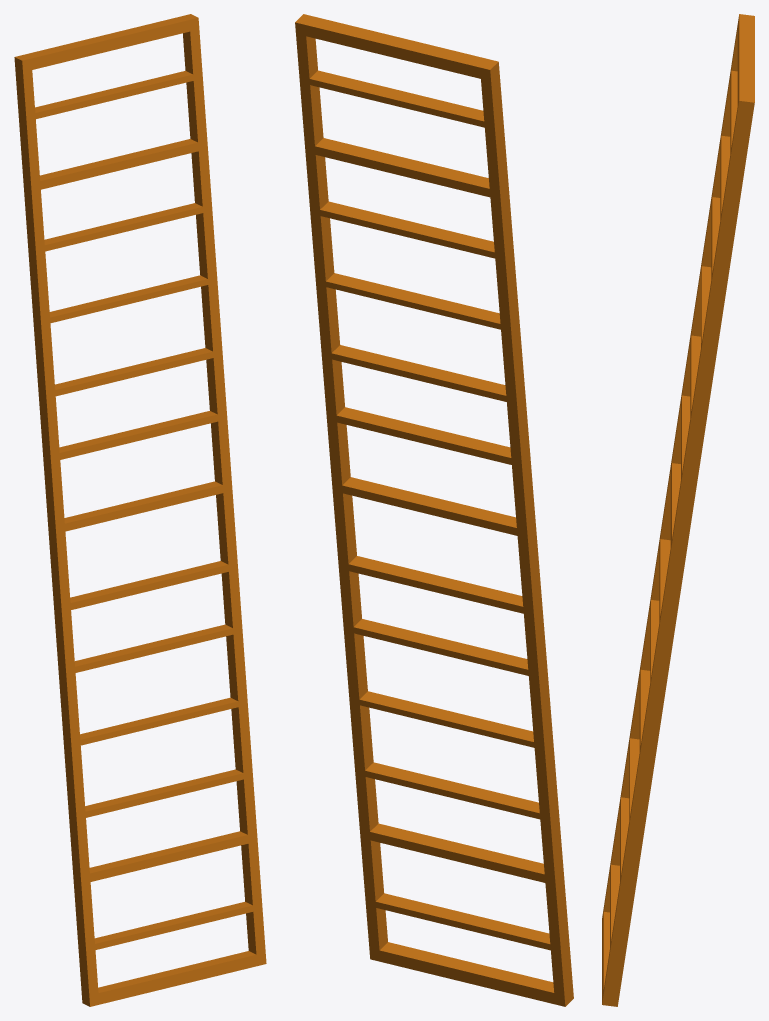
File: Prop_Biblioteca_Escalera.fbx
3 renders of one model, left to right at view 1: azimuth 30°, elevation 25°; view 2: azimuth 150°, elevation 25°; view 3: azimuth 270°, elevation 25°, orthographic. The views are drawn at different scales.
Visible parts, largest first — view 1: Escalera; view 2: Escalera; view 3: Escalera.
Boxes of the visible parts, x1=… form: Escalera: x1=14, y1=14, x2=266, y2=1006; Escalera: x1=295, y1=14, x2=573, y2=1006; Escalera: x1=602, y1=14, x2=754, y2=1006.
Size of the model in its own units: 276 by 1345 by 206.
